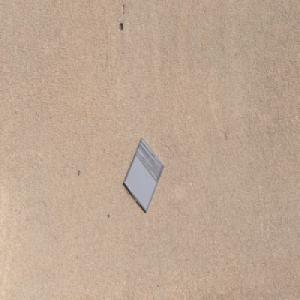PlasticPart: (122, 137, 165, 214)
